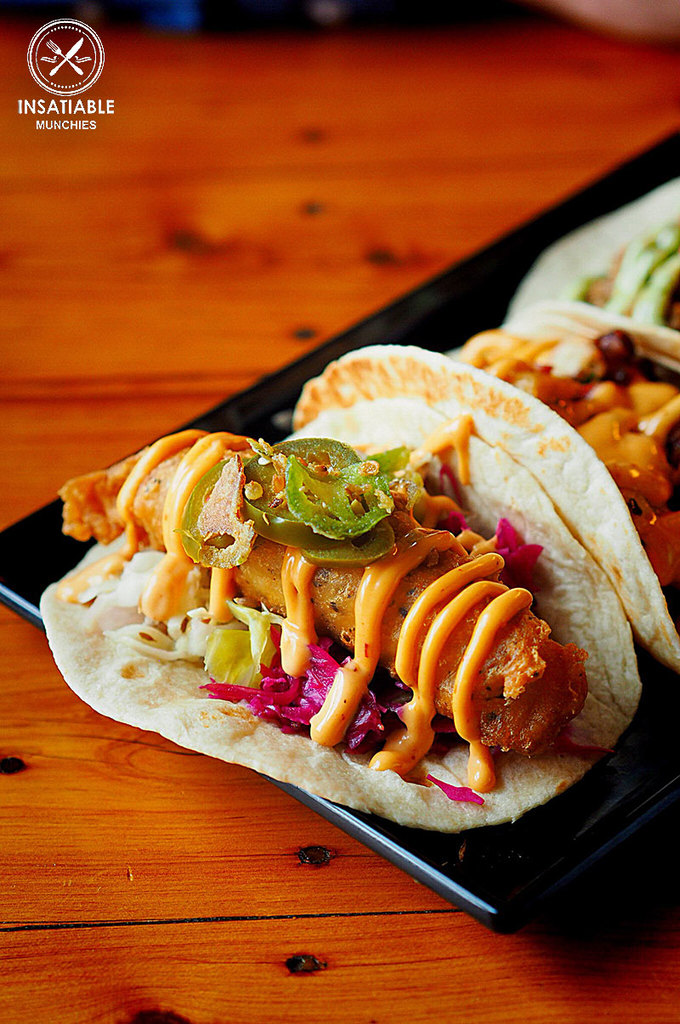taco: (41, 401, 609, 829), (290, 286, 679, 674), (494, 190, 679, 349)
